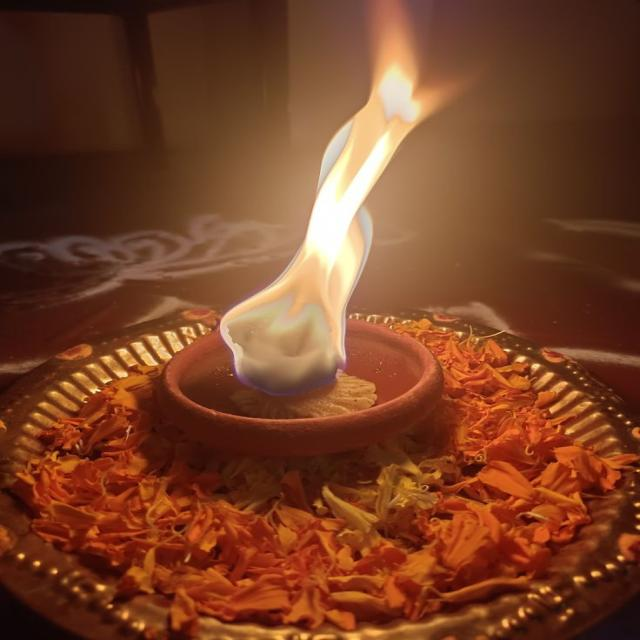fire: (222, 60, 423, 392)
